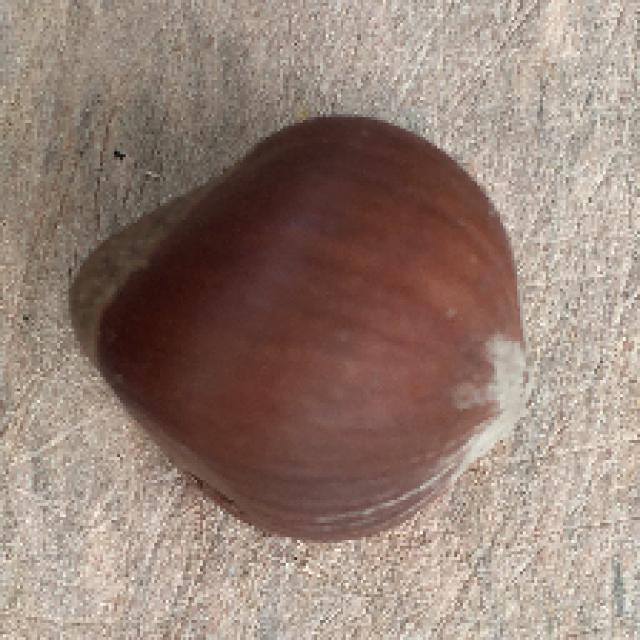qualityHazelnut: (70, 100, 548, 559)
